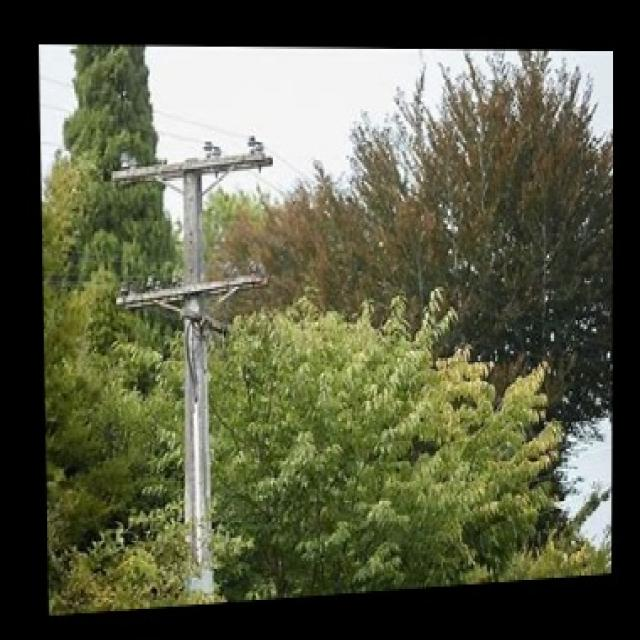utility poles: (113, 105, 282, 590)
